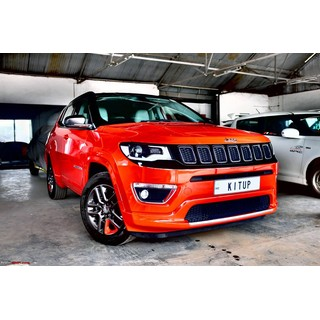car: (44, 92, 278, 247)
